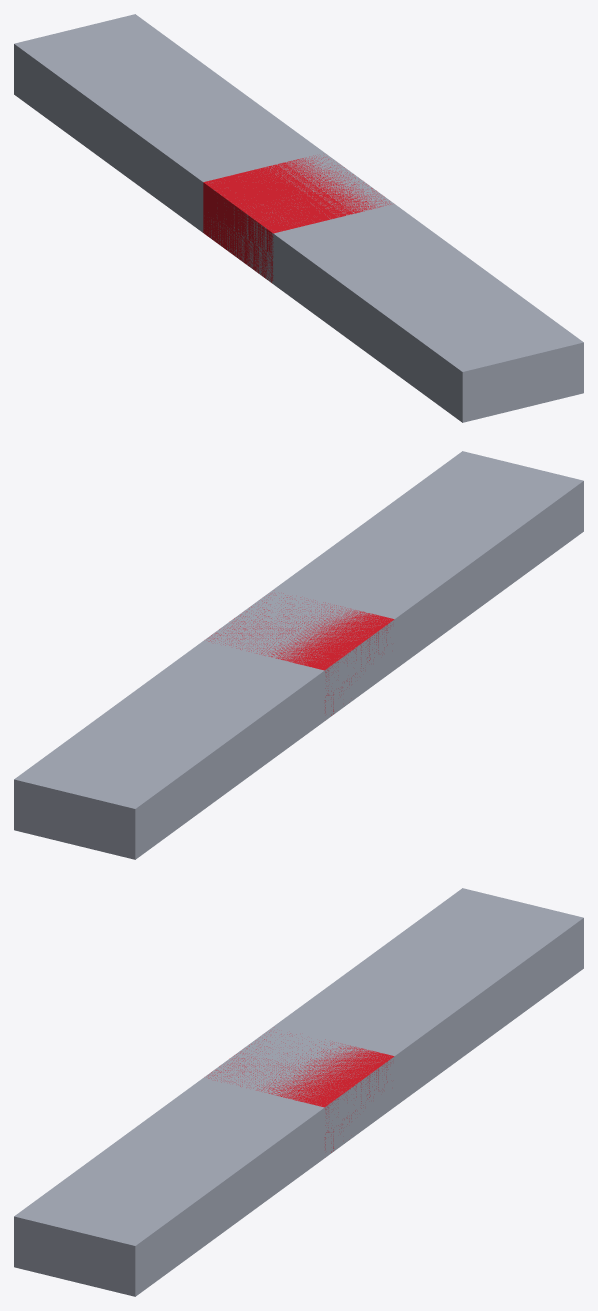
The model's file is drone_rotor.obj.
The picture shows the model from 3 angles, top to bottom: view 1: azimuth 30°, elevation 25°; view 2: azimuth 150°, elevation 25°; view 3: azimuth 330°, elevation 25°; orthographic projection.
Parts seen in each view (by area): view 1: drone_rotor; view 2: drone_rotor; view 3: drone_rotor.
Part boxes in pixels (x1,y1,x2,y2): drone_rotor: (14, 14, 583, 422); drone_rotor: (14, 451, 583, 859); drone_rotor: (14, 888, 583, 1296).
Bounding box in the file's own units: 0.05 × 0.02 × 0.32.
Materials: 1 (1 with a texture image).
